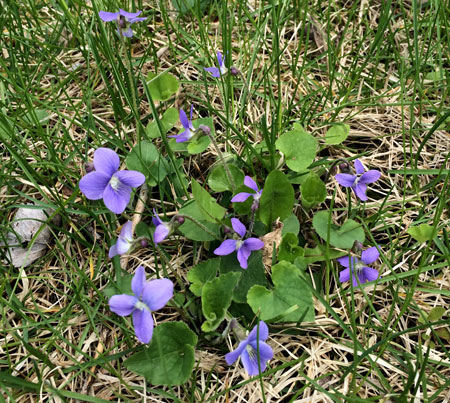violet: (109, 264, 187, 335), (76, 145, 144, 220), (218, 318, 281, 380), (217, 221, 265, 287), (338, 147, 383, 210), (327, 241, 384, 290), (166, 109, 213, 147)
